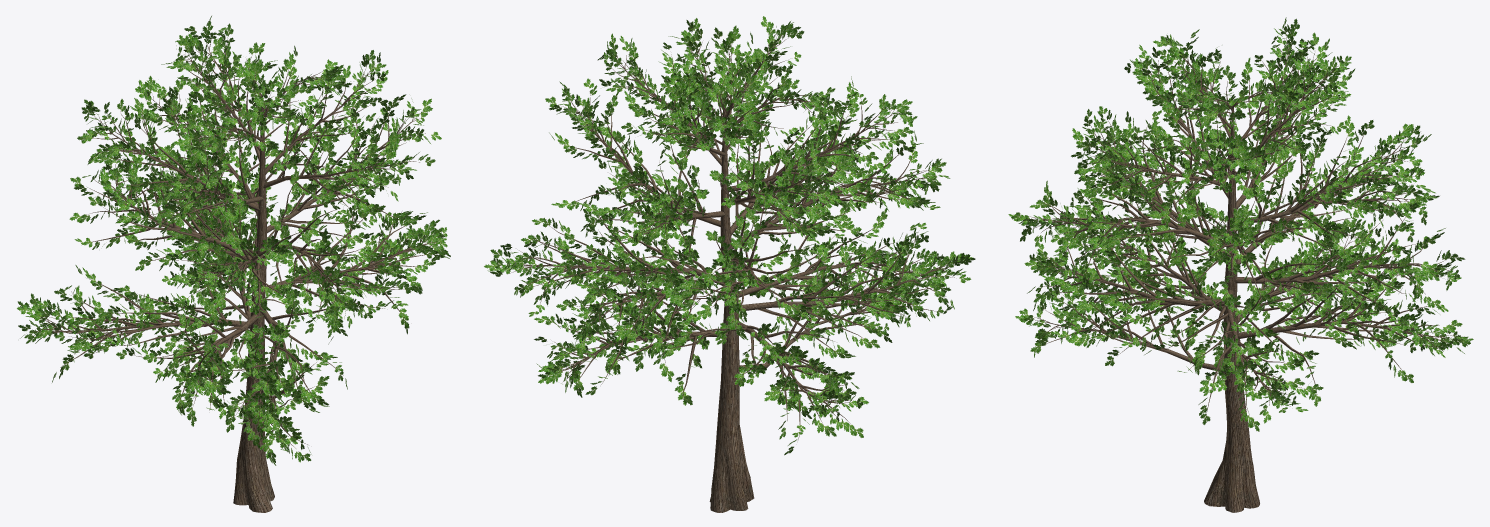
Rendered from OakTreeM05.FBX.
3 views of the same model, side by side, from view 1: azimuth 30°, elevation 25°; view 2: azimuth 150°, elevation 25°; view 3: azimuth 270°, elevation 25° (orthographic). The views are drawn at different scales.
Parts seen in each view (by area): view 1: OakTree05; view 2: OakTree05; view 3: OakTree05.
Part boxes in pixels (box(x1,y1,x2,y2)): OakTree05: box(17, 16, 450, 512); OakTree05: box(484, 16, 975, 512); OakTree05: box(1008, 17, 1473, 512).
Bounding box in the file's own units: 6.9 × 7.59 × 6.93.
